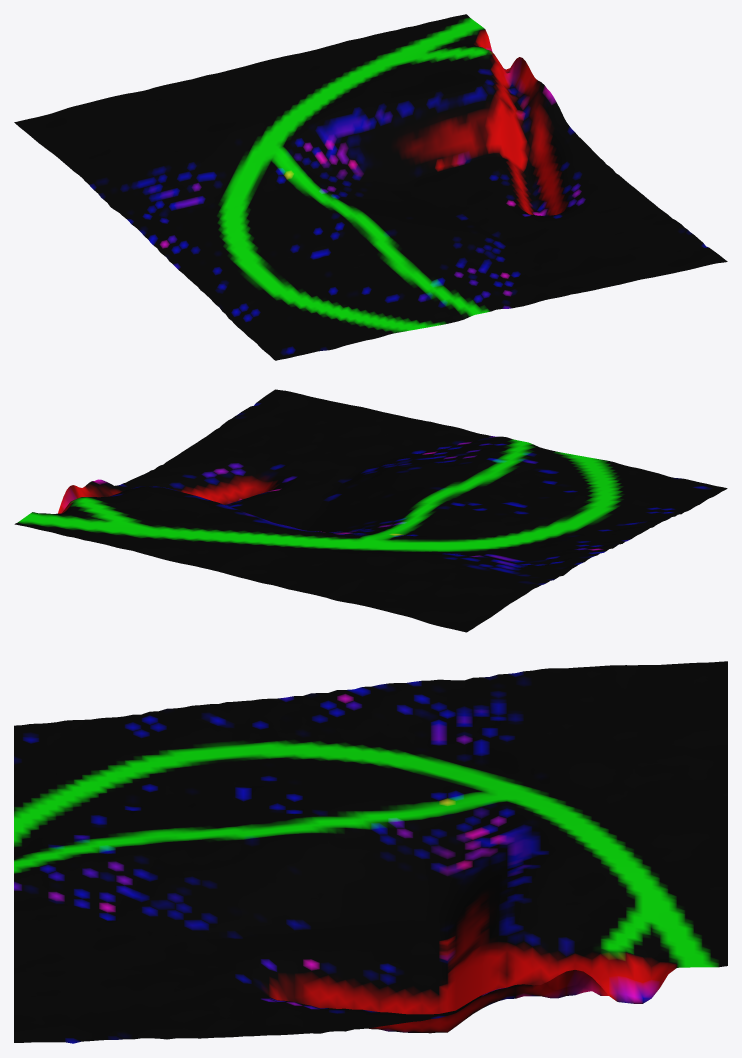
Rendered from SM_AsirMountains_Terrain_2_1.fbx.
3 renders of one model, top to bottom at view 1: azimuth 30°, elevation 25°; view 2: azimuth 150°, elevation 25°; view 3: azimuth 270°, elevation 25°, orthographic. The views are drawn at different scales.
Visible parts, largest first — view 1: SM_AsirMountains_Terrain_2_1; view 2: SM_AsirMountains_Terrain_2_1; view 3: SM_AsirMountains_Terrain_2_1.
Boxes of the visible parts, x1,y1,x2,y2 form: SM_AsirMountains_Terrain_2_1: (14, 14, 727, 360); SM_AsirMountains_Terrain_2_1: (14, 389, 727, 632); SM_AsirMountains_Terrain_2_1: (14, 661, 727, 1043).
Bounding box in the file's own units: 50400 × 8647 × 50400.
